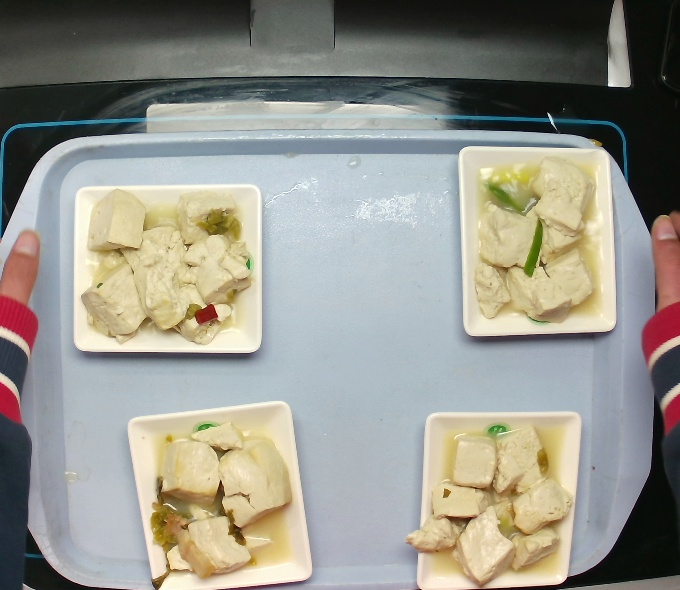wcq-LuDouFu: (131, 414, 302, 589), (78, 184, 256, 345), (405, 419, 572, 590), (466, 158, 603, 324)
